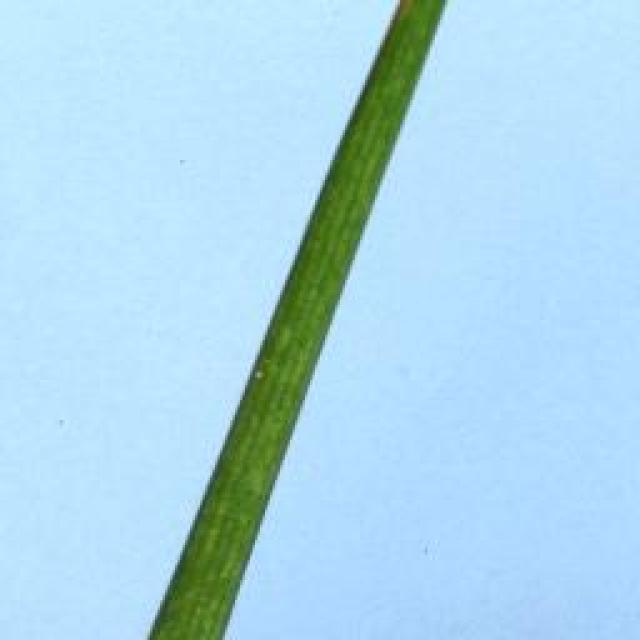Brown_Spot: (392, 0, 420, 28)
